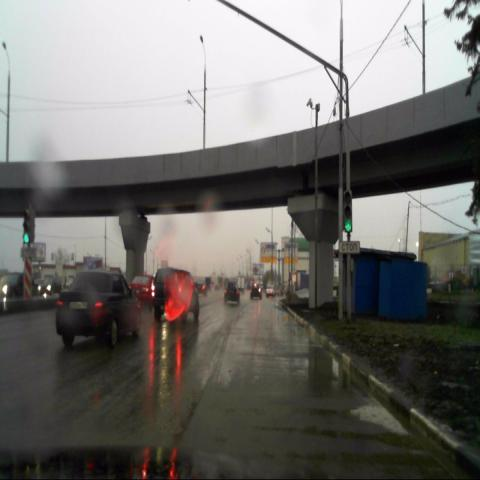6_16: (339, 241, 360, 253)
